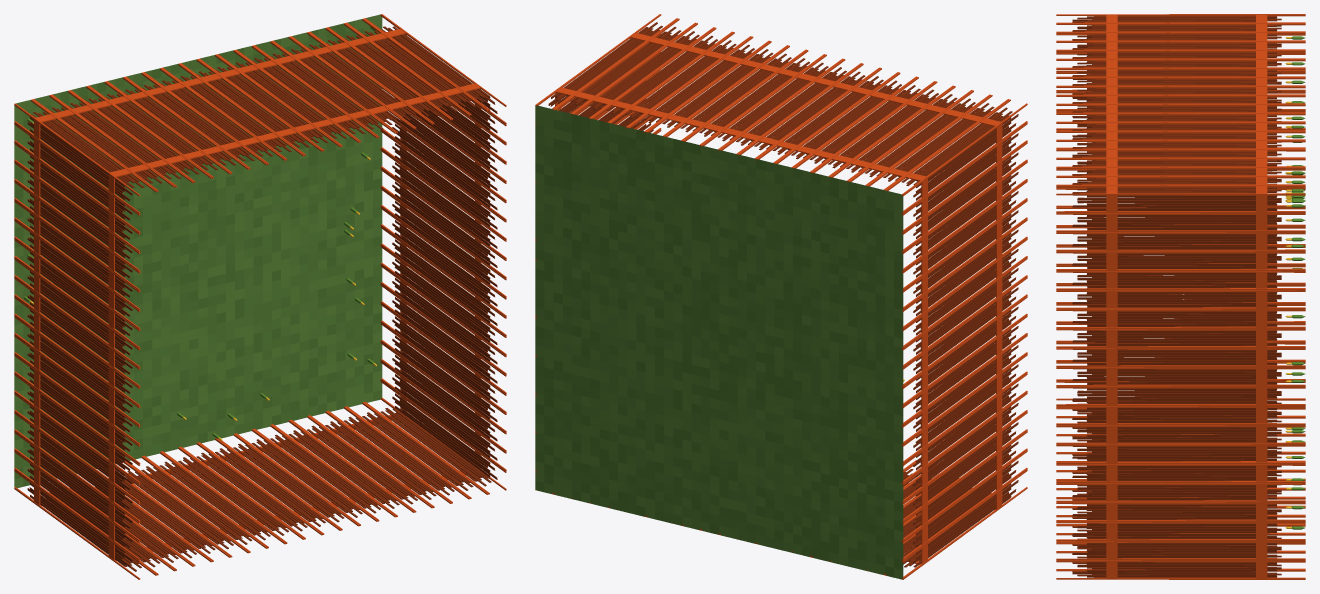
File: sol_prairie.obj
The picture shows the model from 3 angles, left to right: view 1: azimuth 30°, elevation 25°; view 2: azimuth 150°, elevation 25°; view 3: azimuth 270°, elevation 25°; orthographic projection.
Parts seen in each view (by area): view 1: barriere_woodDark, barriere_wood, herbe6, herbe2, herbe1, herbe5, herbe4, herbe7, herbe0, herbe3; view 2: barriere_woodDark, barriere_wood, herbe1, herbe6, herbe5, herbe0, herbe2, herbe4, herbe7, herbe3; view 3: barriere_woodDark, barriere_wood, feuille_claire, fleur.
Part boxes in pixels (box(x1,y1,x2,y2)): barriere_woodDark: box(27, 26, 497, 571); barriere_wood: box(14, 14, 506, 579); herbe6: box(14, 14, 382, 488); herbe2: box(14, 35, 382, 459); herbe1: box(14, 25, 382, 468); herbe5: box(14, 24, 382, 480); herbe4: box(14, 21, 382, 478); herbe7: box(14, 19, 382, 475); herbe0: box(14, 23, 382, 486); herbe3: box(14, 40, 382, 468); barriere_woodDark: box(548, 22, 1018, 567); barriere_wood: box(535, 14, 1027, 579); herbe1: box(535, 116, 903, 561); herbe6: box(535, 105, 903, 579); herbe5: box(535, 114, 903, 574); herbe0: box(535, 114, 903, 577); herbe2: box(535, 126, 903, 550); herbe4: box(535, 112, 903, 570); herbe7: box(535, 109, 903, 567); herbe3: box(535, 124, 903, 568); barriere_woodDark: box(1072, 16, 1281, 577); barriere_wood: box(1056, 14, 1305, 579); feuille_claire: box(1291, 36, 1305, 529); fleur: box(1285, 37, 1291, 528).
Size of the model in its own units: 1.28 by 1.28 by 0.7503.
Materials: 12 (10 with a texture image).
